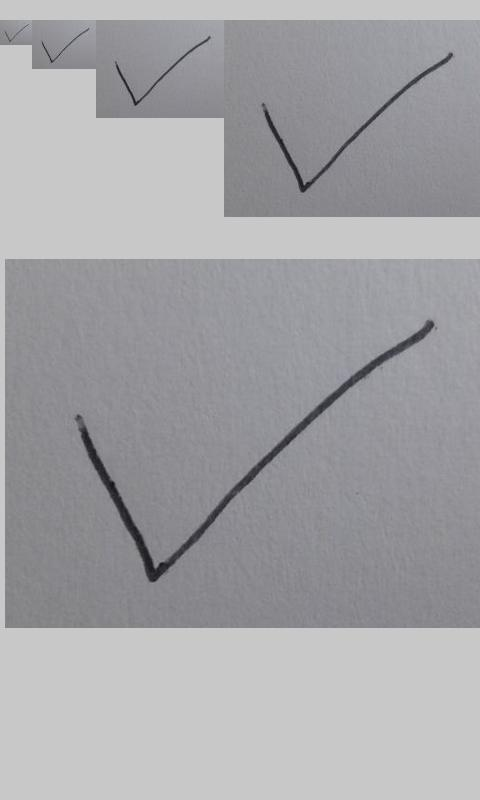check_box: (75, 318, 436, 583), (262, 53, 453, 193), (115, 36, 211, 106), (41, 28, 89, 63), (5, 24, 28, 42)
